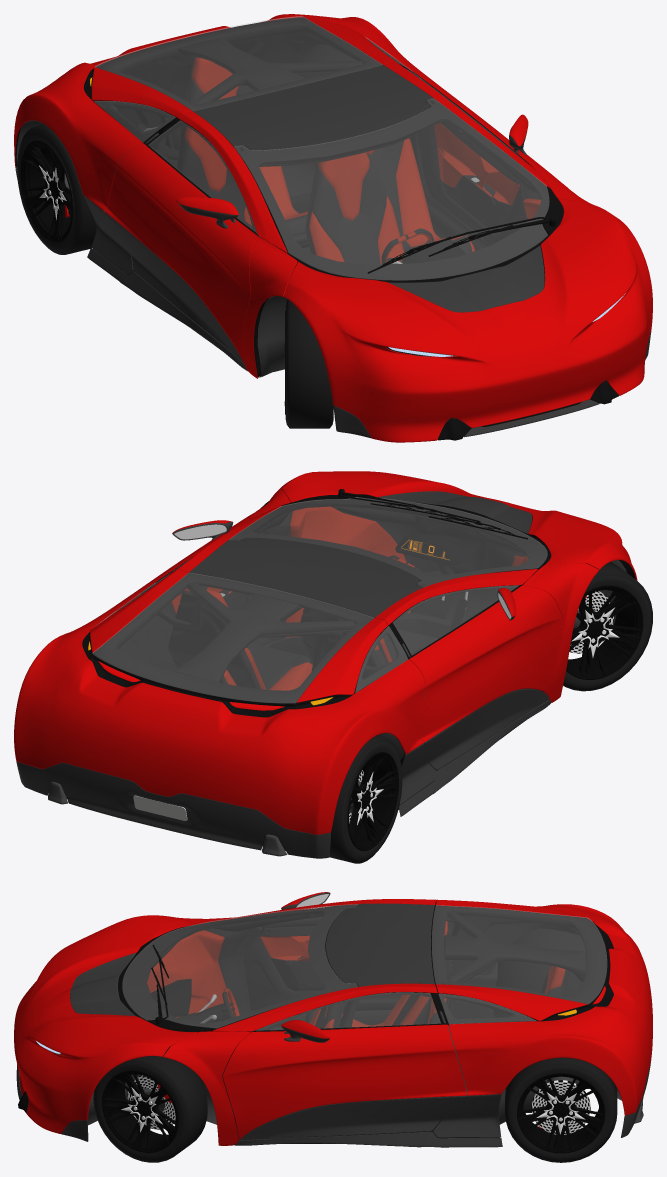
Rendered from car-concept.glb.
3 renders of one model, top to bottom at view 1: azimuth 30°, elevation 25°; view 2: azimuth 150°, elevation 25°; view 3: azimuth 270°, elevation 25°, orthographic. The views are drawn at different scales.
Parts seen in each view (by area): view 1: BodyHood, BodyWindshield, BodyRearwindow, BodyDoorRColor1, BodyRearPanelsColor1, BodyRoofPanel, BodyWindshieldGasket, InteriorSeatsColor1, InteriorSeatsColor2, BodyPillars, InteriorPillar, InteriorRearHatch (+22 smaller); view 2: BodyRearPanelsColor1, BodyRearwindow, BodyWindshield, BodyDoorRColor1, BodyPanelsColor2, BodyRoofPanel, BodyHood, InteriorRearHatch, BodyPillars, InteriorPillar, BodyWindshieldGasket, InteriorDashMid (+22 smaller); view 3: BodyRearPanelsColor1, BodyWindshield, BodyDoorLColor1, BodyHood, BodyRearwindow, BodyRoofPanel, BodyPillars, BodyWindshieldGasket, BodyDoorLColor2, BodyPanelsColor2, WheelFrontL, InteriorRearHatch (+25 smaller).
Boxes of the visible parts, <box> form: BodyHood: <box>283,198,652,442</box>; BodyWindshield: <box>234,98,549,280</box>; BodyRearwindow: <box>95,16,382,110</box>; BodyDoorRColor1: <box>104,143,257,362</box>; BodyRearPanelsColor1: <box>14,14,429,210</box>; BodyRoofPanel: <box>193,65,432,150</box>; BodyWindshieldGasket: <box>234,99,563,282</box>; InteriorSeatsColor1: <box>185,57,475,264</box>; InteriorSeatsColor2: <box>180,78,472,264</box>; BodyPillars: <box>176,61,598,378</box>; InteriorPillar: <box>158,37,435,168</box>; InteriorRearHatch: <box>93,17,383,117</box>; BodyRearPanelsColor1: <box>14,569,425,834</box>; BodyRearwindow: <box>92,573,373,703</box>; BodyWindshield: <box>229,497,547,587</box>; BodyDoorRColor1: <box>409,585,562,742</box>; BodyPanelsColor2: <box>16,700,550,858</box>; BodyRoofPanel: <box>189,537,422,617</box>; BodyHood: <box>279,471,637,580</box>; InteriorRearHatch: <box>93,573,386,707</box>; BodyPillars: <box>175,489,599,702</box>; InteriorPillar: <box>174,574,417,682</box>; BodyWindshieldGasket: <box>230,497,550,587</box>; InteriorDashMid: <box>331,503,528,622</box>; BodyRearPanelsColor1: <box>436,899,652,1115</box>; BodyWindshield: <box>122,904,357,1028</box>; BodyDoorLColor1: <box>222,1024,467,1139</box>; BodyHood: <box>14,915,196,1133</box>; BodyRearwindow: <box>432,905,606,1003</box>; BodyRoofPanel: <box>326,903,434,986</box>; BodyPillars: <box>163,899,437,1145</box>; BodyWindshieldGasket: <box>118,905,357,1032</box>; BodyDoorLColor2: <box>240,1096,467,1140</box>; BodyPanelsColor2: <box>16,1050,652,1147</box>; WheelFrontL: <box>93,1054,207,1162</box>; InteriorRearHatch: <box>431,905,606,1020</box>.
Bounding box in the file's own units: 2.54 × 1.15 × 4.36.
Materials: 23 (3 with a texture image).
